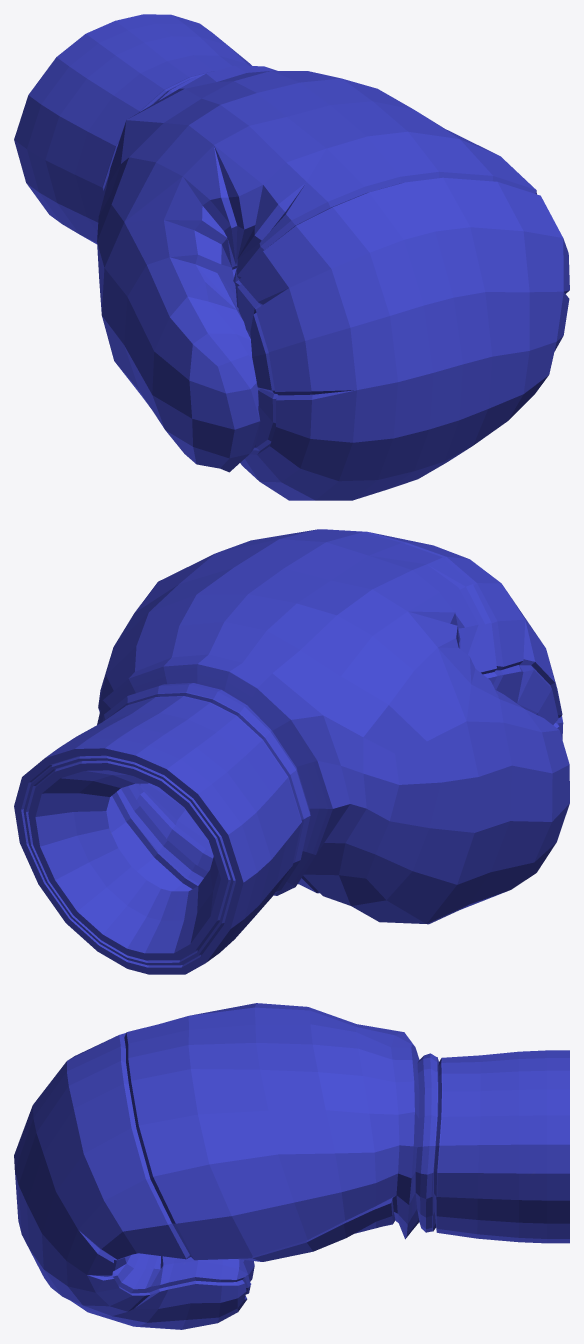
Rendered from player2_glove2.fbx.
3 views of the same model, one above another, from view 1: azimuth 30°, elevation 25°; view 2: azimuth 150°, elevation 25°; view 3: azimuth 270°, elevation 25° (orthographic). The views are drawn at different scales.
Visible parts, largest first — view 1: node_id6; view 2: node_id6; view 3: node_id6.
Boxes of the visible parts, x1,y1,x2,y2 form: node_id6: (14, 14, 569, 500); node_id6: (14, 529, 569, 974); node_id6: (14, 1003, 569, 1329).
Bounding box in the file's own units: 0.3569 × 0.2914 × 0.511.
Materials: 1 (1 with a texture image).
